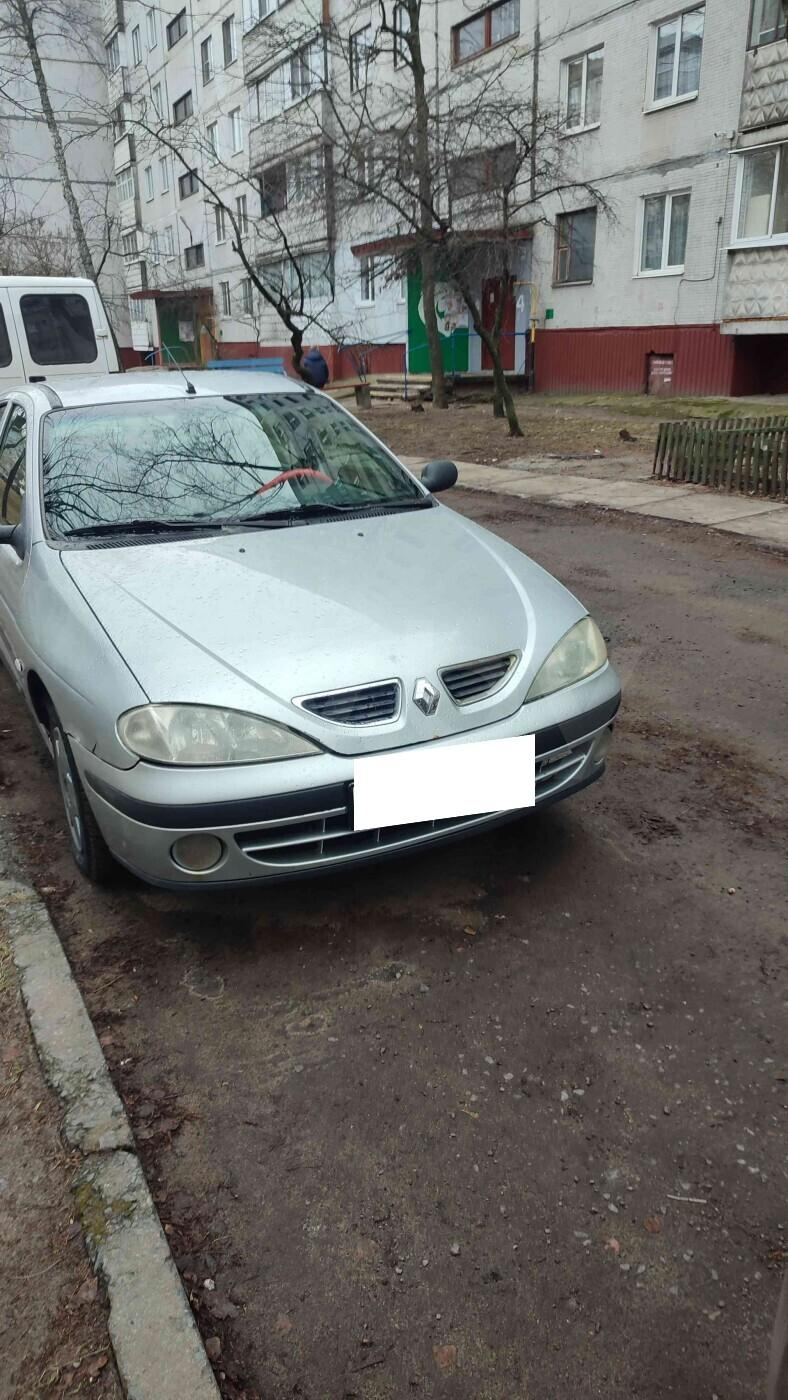Megane_1995-1999: (0, 362, 626, 918)
